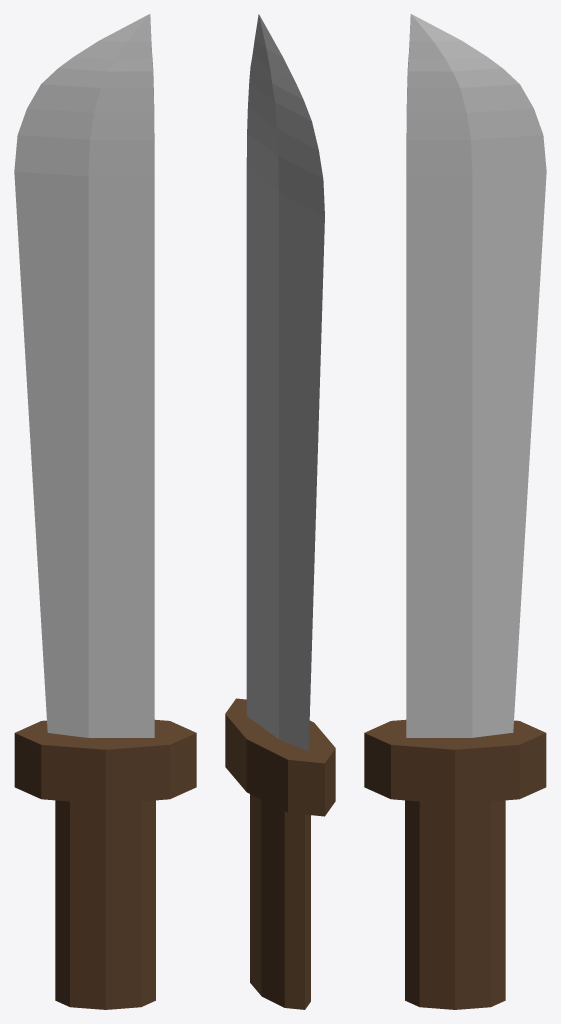
The model's file is Azka Ghafara_140810200037_Golok1.fbx.
3 renders of one model, left to right at view 1: azimuth 90°, elevation 25°; view 2: azimuth 210°, elevation 25°; view 3: azimuth 270°, elevation 25°, orthographic. The views are drawn at different scales.
Visible parts, largest first — view 1: Blade, Handle; view 2: Blade, Handle; view 3: Blade, Handle.
Part boxes in pixels (bbox=[...]): Blade: bbox=[14, 14, 154, 737]; Handle: bbox=[14, 719, 196, 1009]; Blade: bbox=[246, 14, 324, 751]; Handle: bbox=[225, 698, 335, 1009]; Blade: bbox=[406, 14, 546, 737]; Handle: bbox=[364, 719, 546, 1009].
Bounding box in the file's own units: 103 × 1404 × 235.
